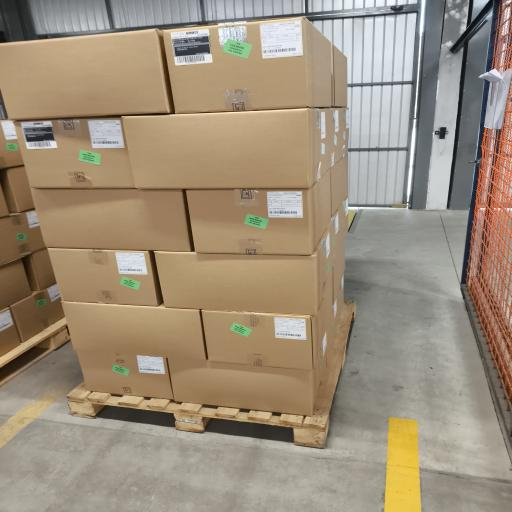pallet: (68, 301, 356, 447), (0, 318, 70, 386)
